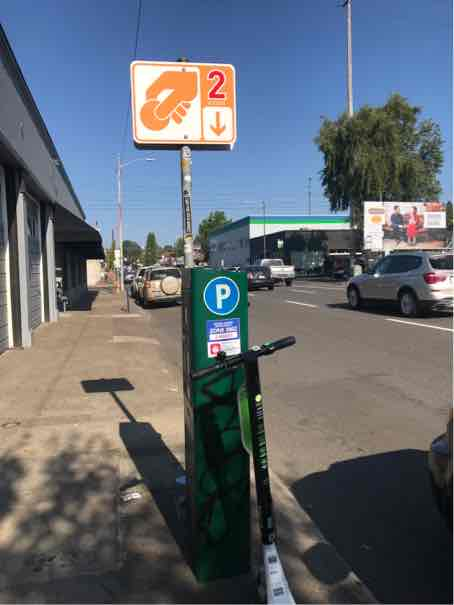scooter: (178, 325, 334, 605)
